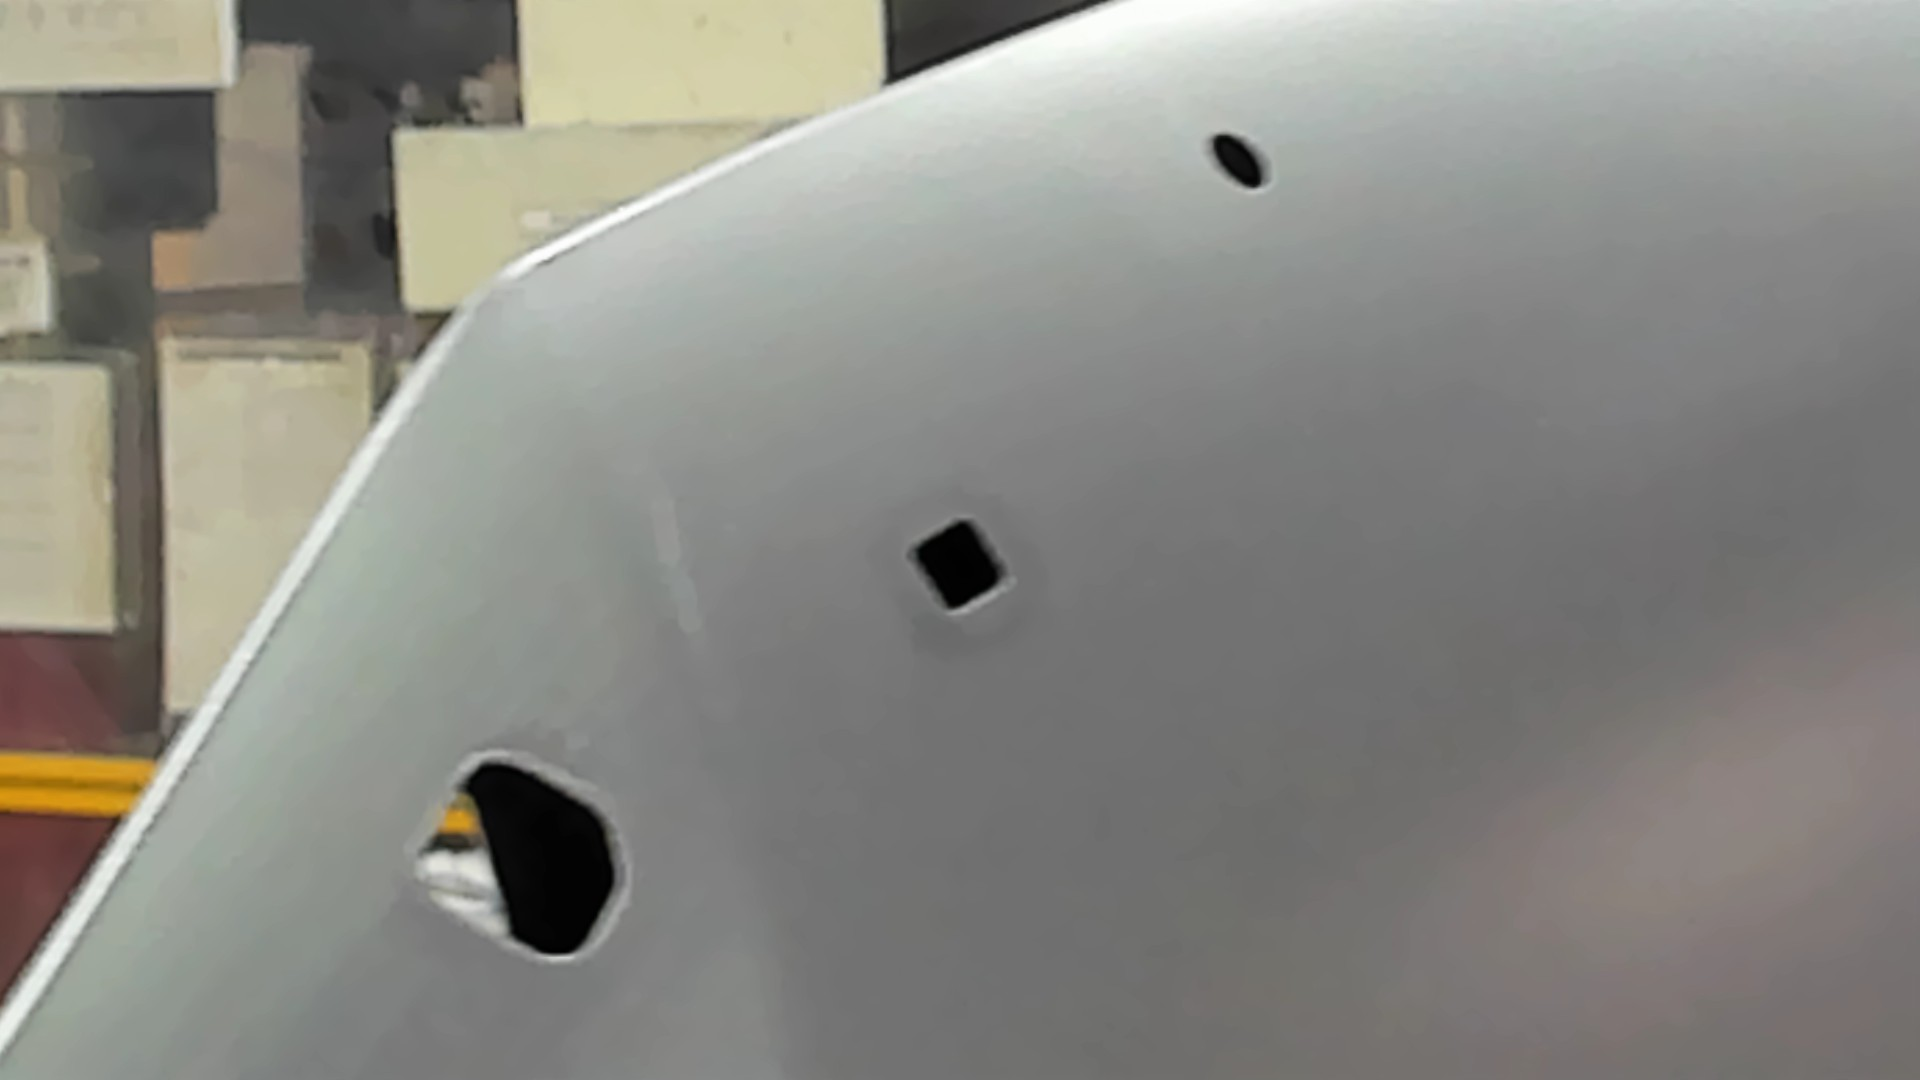chico: (1207, 127, 1274, 194)
grande: (407, 746, 632, 965)
mediano: (905, 512, 1010, 618)
